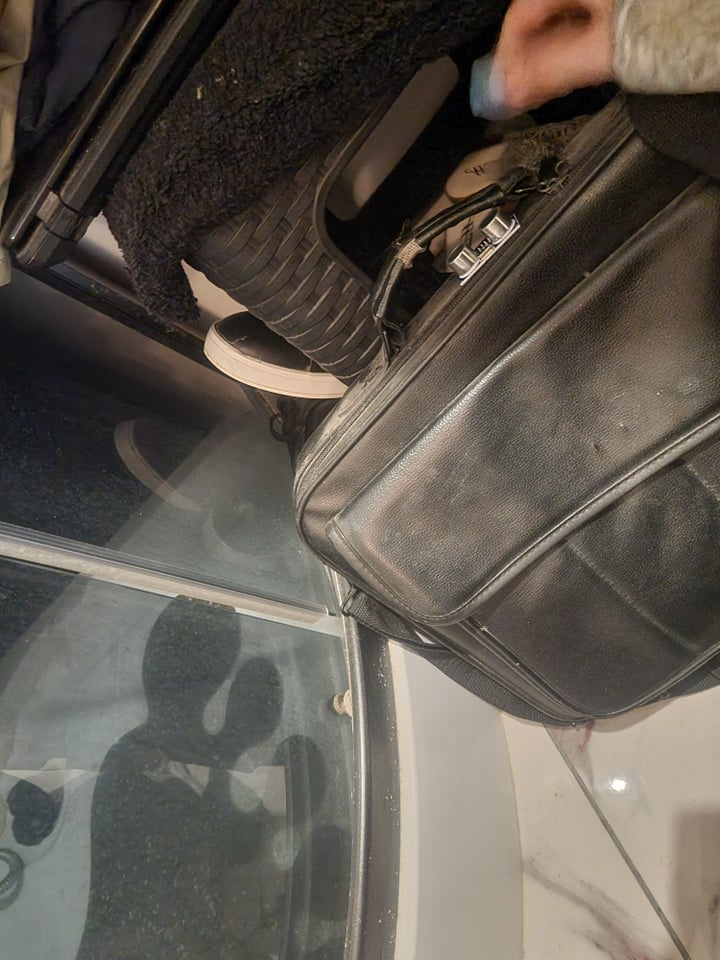SENSOR: (444, 202, 517, 293)
